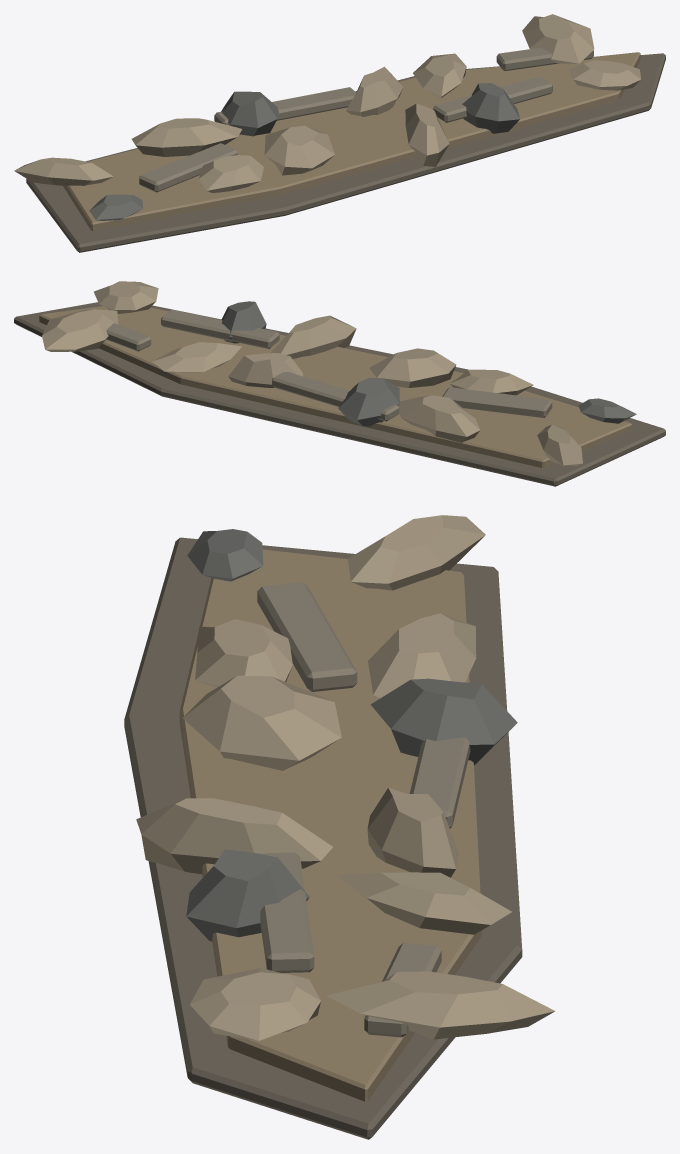
Rendered from road-scree-bank.glb.
3 renders of one model, top to bottom at view 1: azimuth 30°, elevation 25°; view 2: azimuth 150°, elevation 25°; view 3: azimuth 270°, elevation 25°, orthographic. The views are drawn at different scales.
Parts seen in each view (by area): view 1: settled_road_scree_dust, settled_road_scree_shadow, road_scree_pebble_7, road_scree_pebble_2, road_scree_pebble_11, road_scree_pebble_4, road_scree_pebble_6, road_scree_pebble_3, road_scree_pebble_8, road_scree_pebble_1, broken_road_edge_slab_0, road_scree_pebble_9 (+6 smaller); view 2: settled_road_scree_dust, settled_road_scree_shadow, road_scree_pebble_7, road_scree_pebble_11, road_scree_pebble_2, road_scree_pebble_3, road_scree_pebble_8, broken_road_edge_slab_2, broken_road_edge_slab_0, road_scree_pebble_10, road_scree_pebble_9, broken_road_edge_slab_1 (+6 smaller); view 3: settled_road_scree_dust, settled_road_scree_shadow, road_scree_pebble_2, road_scree_pebble_11, road_scree_pebble_3, road_scree_pebble_8, road_scree_pebble_5, road_scree_pebble_4, road_scree_pebble_10, road_scree_pebble_6, road_scree_pebble_7, broken_road_edge_slab_0 (+6 smaller).
Part boxes in pixels (<box>): settled_road_scree_dust: <box>63,52,640,230</box>; settled_road_scree_shadow: <box>26,53,665,252</box>; road_scree_pebble_7: <box>131,118,242,156</box>; road_scree_pebble_2: <box>264,125,334,175</box>; road_scree_pebble_11: <box>522,14,594,63</box>; road_scree_pebble_4: <box>462,83,519,133</box>; road_scree_pebble_6: <box>14,157,113,185</box>; road_scree_pebble_3: <box>405,103,449,166</box>; road_scree_pebble_8: <box>221,91,278,136</box>; road_scree_pebble_1: <box>199,155,263,192</box>; broken_road_edge_slab_0: <box>139,143,237,192</box>; road_scree_pebble_9: <box>346,66,402,116</box>; settled_road_scree_dust: <box>39,306,631,467</box>; settled_road_scree_shadow: <box>14,302,665,486</box>; road_scree_pebble_7: <box>398,395,480,442</box>; road_scree_pebble_11: <box>42,309,118,351</box>; road_scree_pebble_2: <box>369,348,456,387</box>; road_scree_pebble_3: <box>270,315,356,358</box>; road_scree_pebble_8: <box>338,378,399,426</box>; broken_road_edge_slab_2: <box>161,309,279,348</box>; broken_road_edge_slab_0: <box>442,387,552,417</box>; road_scree_pebble_10: <box>152,342,241,372</box>; road_scree_pebble_9: <box>228,353,303,387</box>; broken_road_edge_slab_1: <box>272,372,399,421</box>; settled_road_scree_dust: <box>179,549,481,1101</box>; settled_road_scree_shadow: <box>124,537,522,1139</box>; road_scree_pebble_2: <box>182,675,341,770</box>; road_scree_pebble_11: <box>326,971,555,1039</box>; road_scree_pebble_3: <box>136,798,332,874</box>; road_scree_pebble_8: <box>370,678,517,765</box>; road_scree_pebble_5: <box>190,968,320,1040</box>; road_scree_pebble_4: <box>186,849,309,941</box>; road_scree_pebble_10: <box>338,872,511,934</box>; road_scree_pebble_6: <box>348,515,485,590</box>; road_scree_pebble_7: <box>368,613,476,698</box>; broken_road_edge_slab_0: <box>257,582,357,691</box>.
Bounding box in the file's own units: 3.51 × 0.2569 × 1.08.
